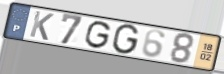6: (140, 29, 167, 60)
7: (60, 13, 84, 47)
8: (168, 32, 196, 66)
G: (110, 23, 141, 56), (83, 20, 113, 51)
K: (28, 9, 56, 42)
